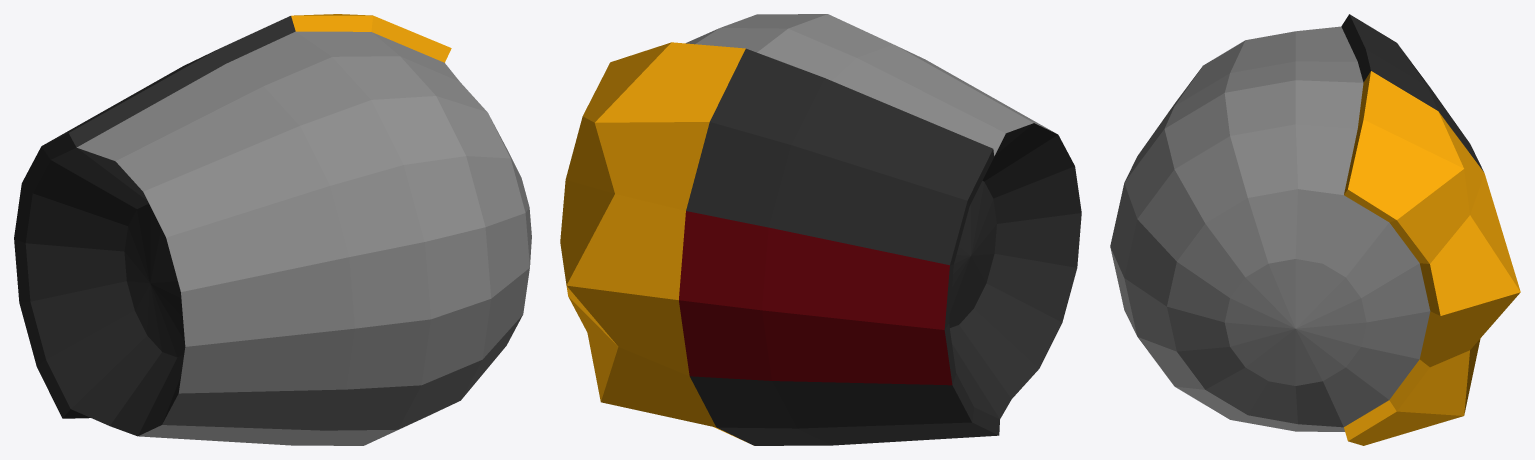
File: PyroKnight_Model_Glove_Default(ver0.1)_FantasyTactics.fbx
The picture shows the model from 3 angles, left to right: view 1: azimuth 30°, elevation 25°; view 2: azimuth 150°, elevation 25°; view 3: azimuth 270°, elevation 25°; orthographic projection. The views are drawn at different scales.
Parts seen in each view (by area): view 1: Pyro Knight Glove; view 2: Pyro Knight Glove; view 3: Pyro Knight Glove.
Boxes of the visible parts, box(x1,y1,x2,y2) form: Pyro Knight Glove: box(14, 14, 531, 445); Pyro Knight Glove: box(560, 14, 1081, 445); Pyro Knight Glove: box(1110, 14, 1520, 445).
Size of the model in its own units: 42.68 by 38.8 by 40.64.
